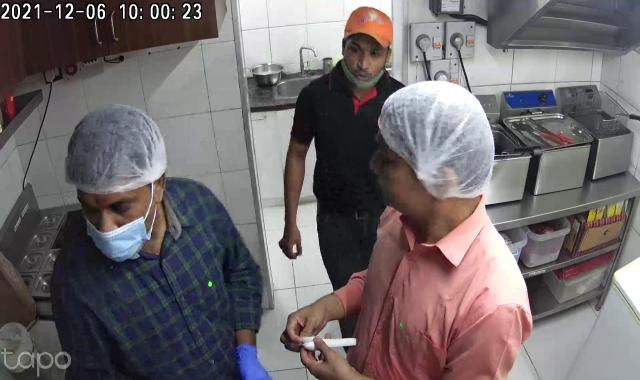hairnet: (378, 78, 502, 200), (65, 111, 168, 194)
no_hairnet: (341, 5, 397, 63)
